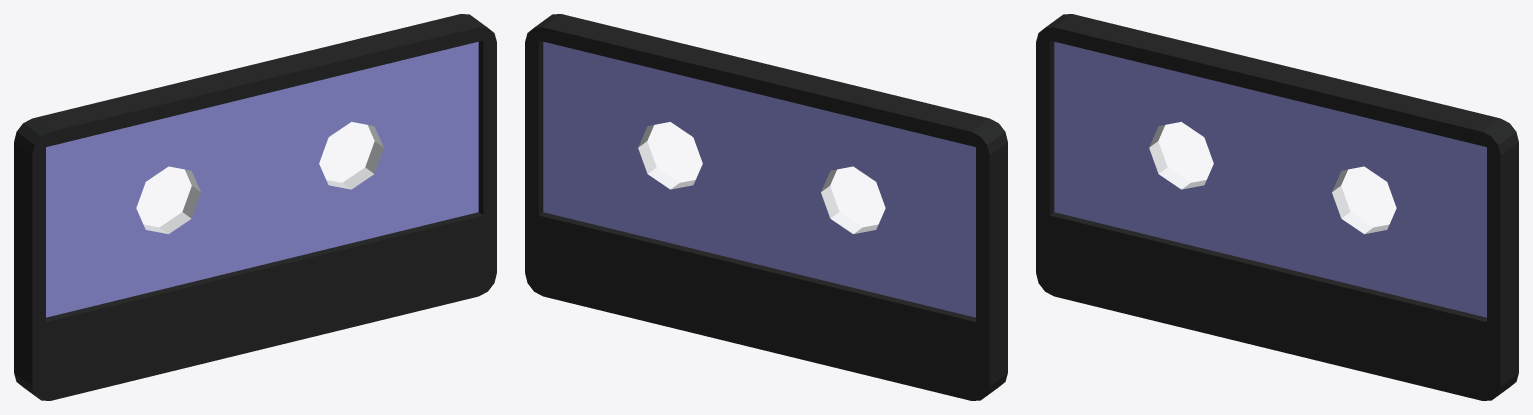
Rendered from Casette_02.fbx.
The picture shows the model from 3 angles, left to right: view 1: azimuth 30°, elevation 25°; view 2: azimuth 150°, elevation 25°; view 3: azimuth 330°, elevation 25°; orthographic projection.
Parts seen in each view (by area): view 1: Plane.069; view 2: Plane.069; view 3: Plane.069.
Boxes of the visible parts, <box> form: Plane.069: <box>14,14,496,400</box>; Plane.069: <box>525,14,1007,400</box>; Plane.069: <box>1036,14,1518,400</box>.
Size of the model in its own units: 0.2966 by 0.0202 by 0.1642.
